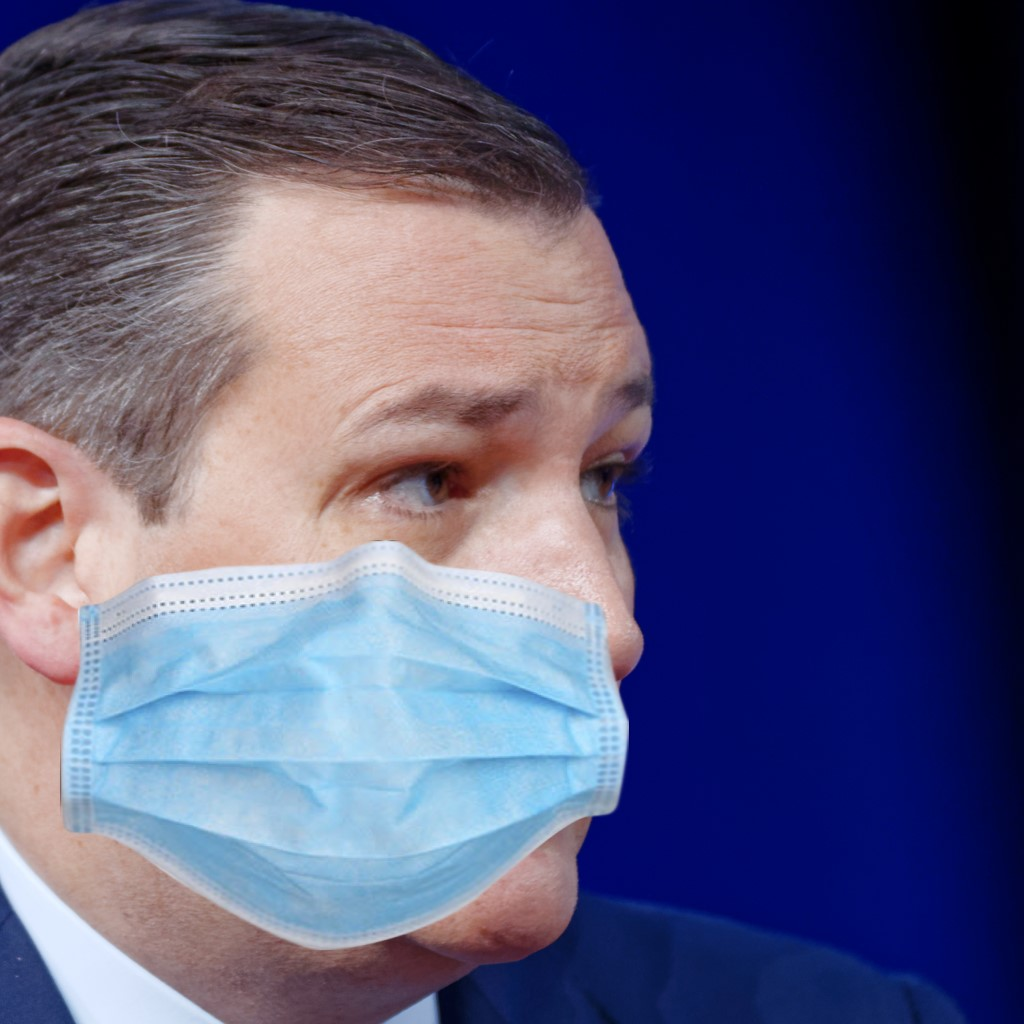con_mascara: (53, 109, 631, 998)
